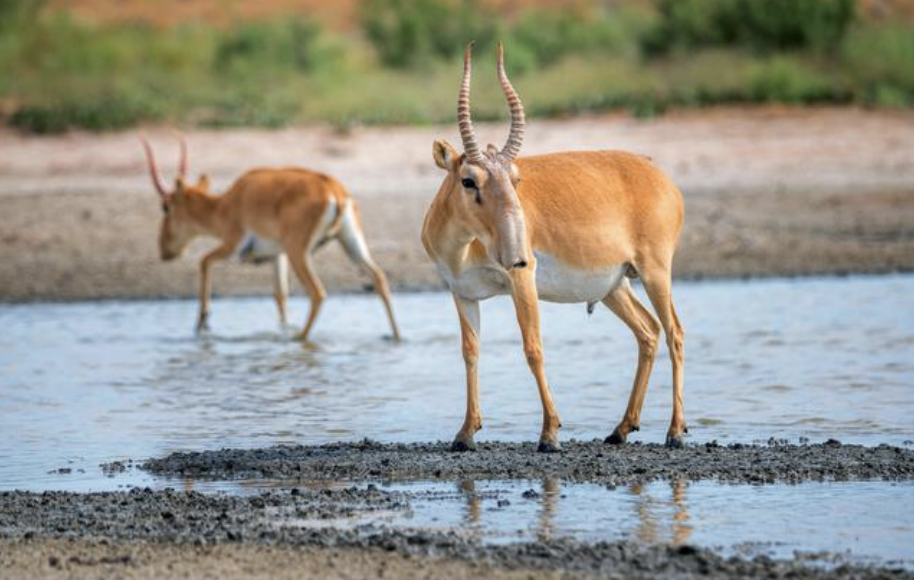saiga: (408, 25, 707, 462)
